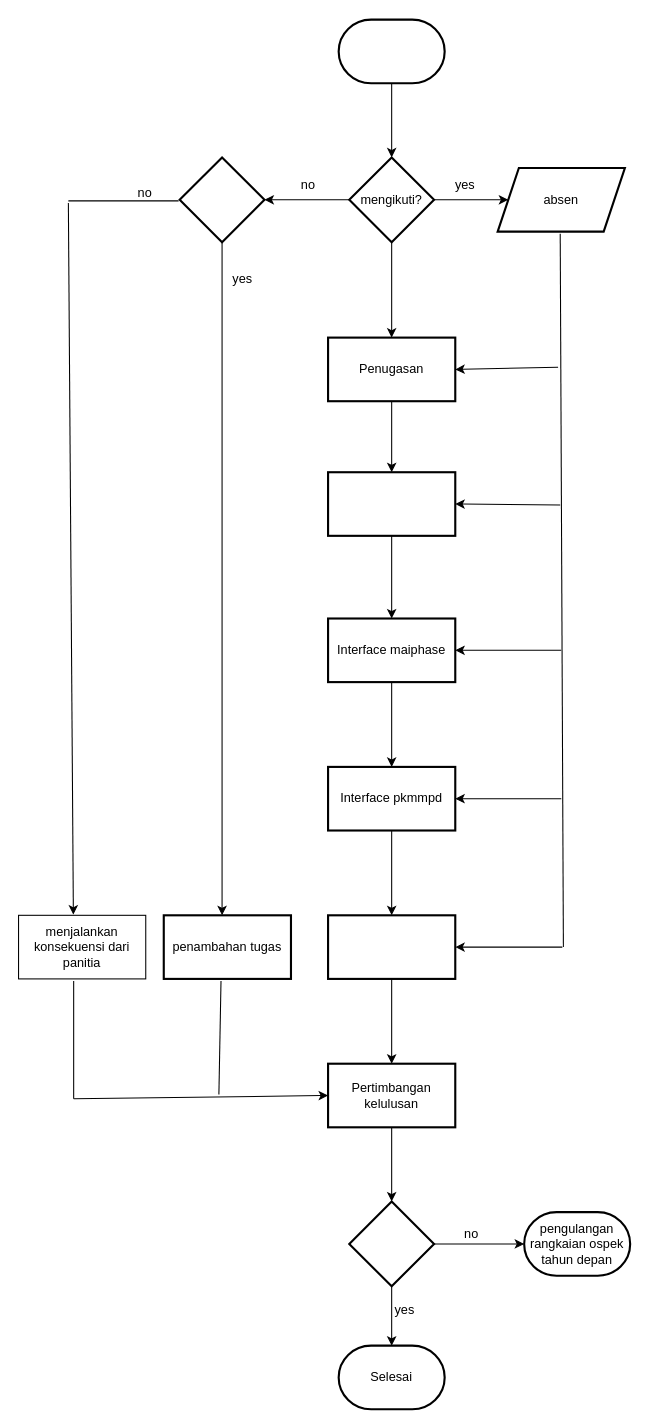
The diagram is 650 pixels wide and 1428 high, and some of its shapes have lost their labels. Each missing label, with the centre of its shape:
"INTERFACE 2024" belongs at point 391,51.
"Interface demo" belongs at point 391,503.
"izin?" belongs at point 221,199.
"lulus?" belongs at point 391,1243.
"Makrab" belongs at point 391,946.
